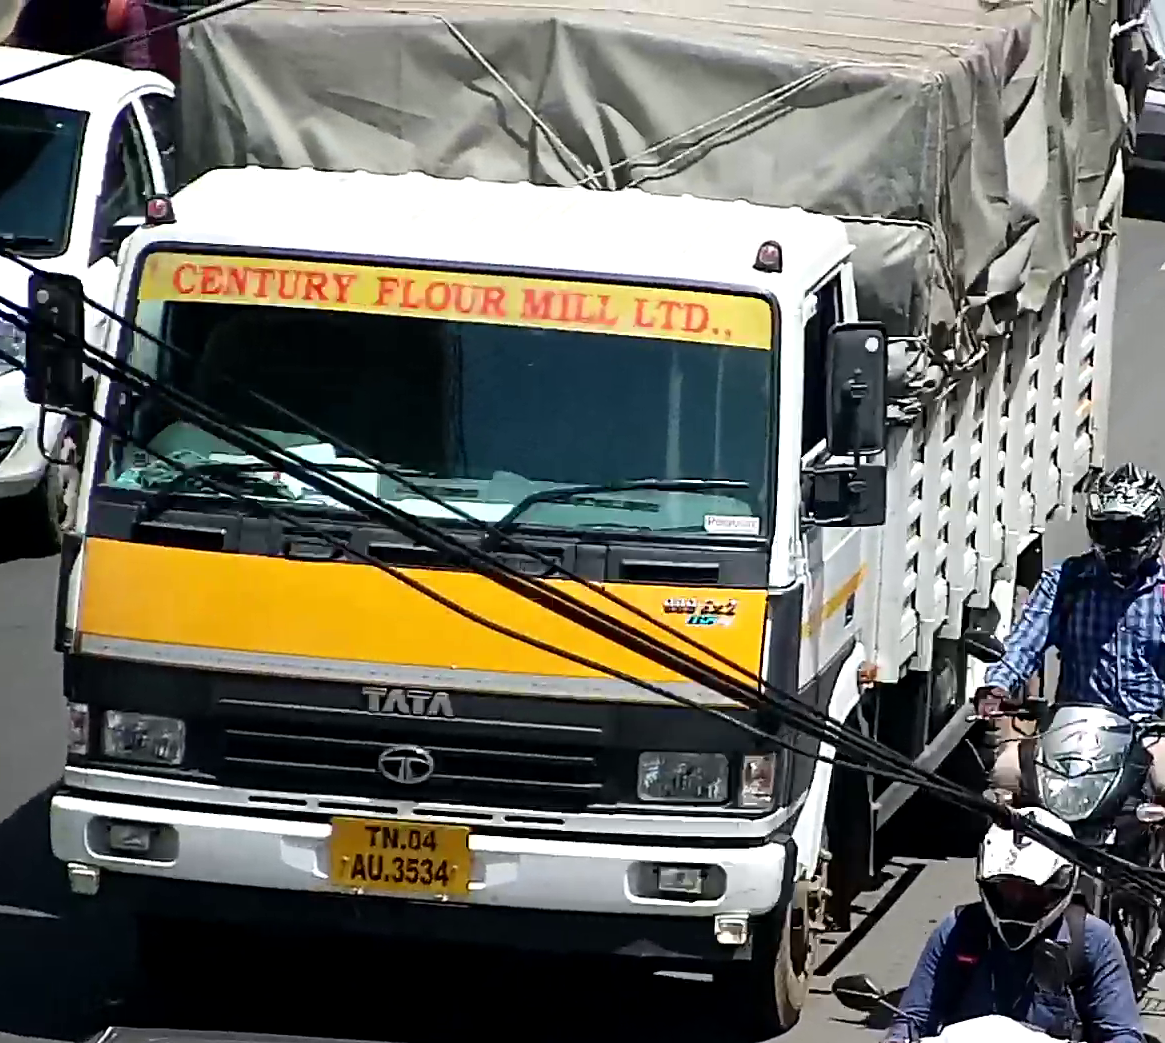.: (400, 843, 407, 850), (383, 874, 390, 881)
0: (408, 830, 421, 850)
3: (419, 857, 433, 886), (391, 857, 404, 883)
4: (434, 859, 449, 887), (422, 829, 438, 852)
5: (404, 857, 419, 884)
A: (350, 853, 366, 881)
N: (381, 825, 399, 849)
P10: (326, 813, 473, 901)
T: (364, 824, 381, 847)
U: (367, 852, 383, 881)
